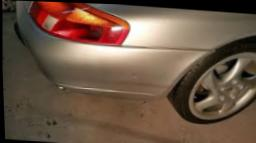Light: (57, 2, 93, 18)
